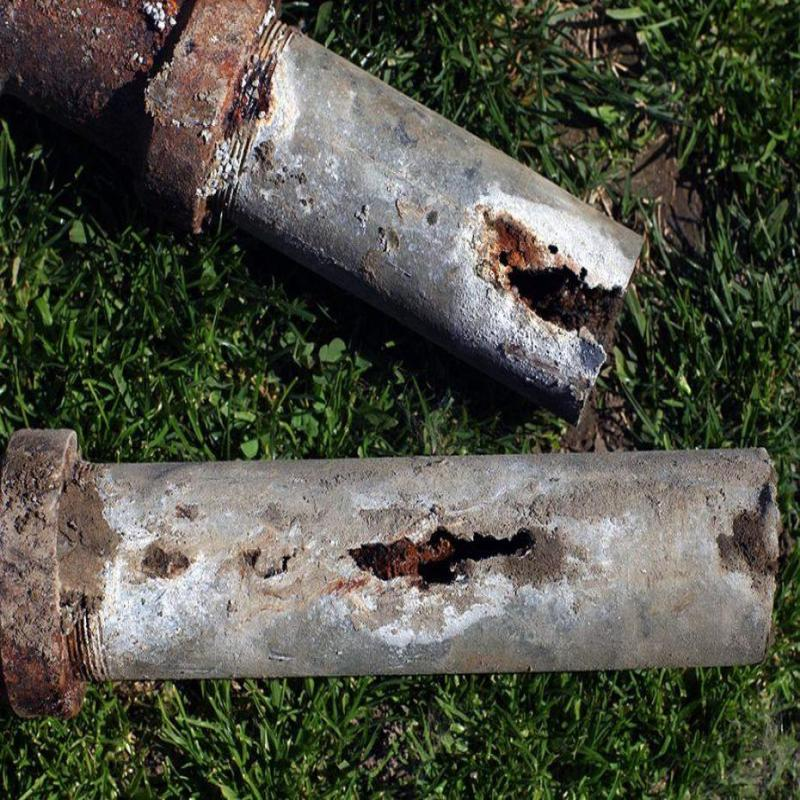Fracture: (349, 524, 548, 576), (507, 247, 619, 336)
